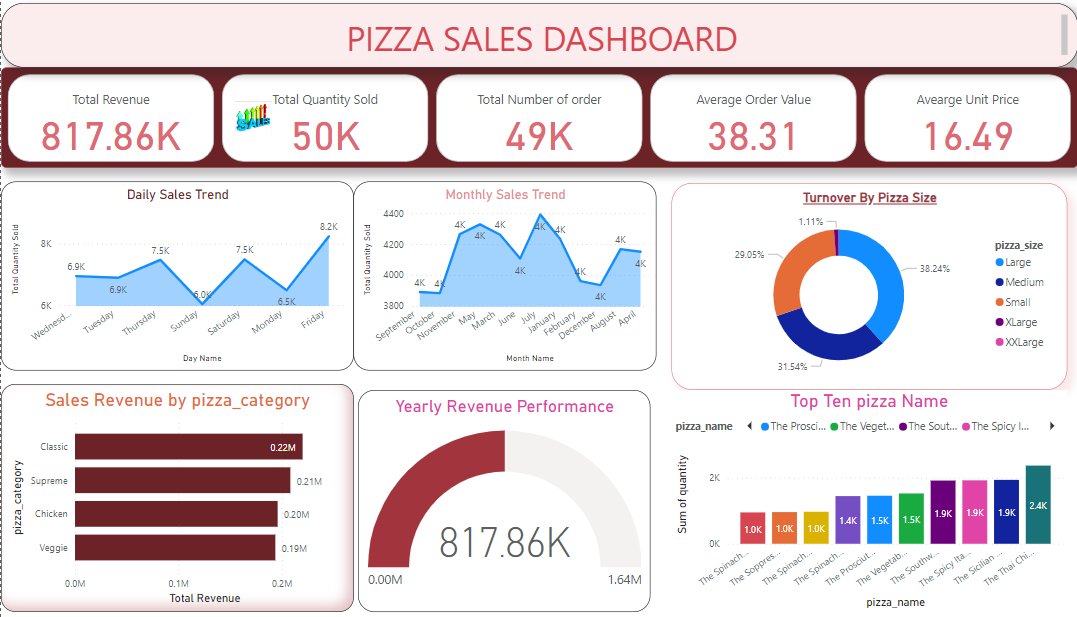

The dashboard page shown, as its layout file describes it:
{"tool":"powerbi","page":{"name":"Pizza Sales ","canvas":[1280,863],"ordinal":0},"visuals":[{"type":"areaChart","title":"Daily Sales Trend","fields":{"Category":["pizza_sales.Day Name"],"Y":["pizza_sales.Total Quantity Sold"]},"box":[0,291.5,447.7,240],"z":0},{"type":"donutChart","title":"Turnover By Pizza Size","fields":{"Y":["pizza_sales.Total Quantity Sold"],"Series":["pizza_sales.pizza_size"]},"box":[851.6,293.4,413.4,262.9],"z":1000},{"type":"clusteredBarChart","title":"Sales Revenue by pizza_category","fields":{"Category":["pizza_sales.pizza_category"],"Y":["pizza_sales.Total Revenue"]},"box":[0,548.7,447.7,289.6],"z":2000},{"type":"gauge","title":"Yearly Revenue Performance ","fields":{"Y":["pizza_sales.Total Revenue"]},"box":[453.4,556.3,371.5,282],"z":3000},{"type":"textbox","box":[447.4,3.8,385.1,60.4],"z":4000},{"type":"cardVisual","fields":{"Data":["pizza_sales.Total Revenue","pizza_sales.Total Quantity Sold","pizza_sales.Total Number of order","pizza_sales.Average Order Value","pizza_sales.Avearge Unit Price"]},"box":[0,146.7,1265,127.6],"z":5000},{"type":"areaChart","title":"Monthly Sales Trend","fields":{"Category":["pizza_sales.Month Name"],"Y":["pizza_sales.Total Quantity Sold"]},"box":[447.7,291.5,384.8,240],"z":6000},{"type":"textbox","box":[0,64.8,1280.2,81.9],"z":7000},{"type":"tableEx","fields":{"Values":["pizza_sales.pizza_name","Sum(pizza_sales.quantity)"]},"box":[852,556,413,282],"z":8000},{"type":"image","box":[257.2,169.6,57.2,81.9],"z":8001}]}

Visuals, with their boxes on the page's 1280x863 design canvas (x1, y1, x2, y2). These are canvas units, not pixel positions in the 1077x617 screenshot, which may show the page scaled, cropped or inside an application window:
"Daily Sales Trend" areaChart: (0, 292, 448, 532)
"Turnover By Pizza Size" donutChart: (852, 293, 1265, 556)
"Sales Revenue by pizza_category" clusteredBarChart: (0, 549, 448, 838)
"Yearly Revenue Performance " gauge: (453, 556, 825, 838)
textbox: (447, 4, 832, 64)
cardVisual - pizza_sales.Total Revenue x pizza_sales.Total Quantity Sold: (0, 147, 1265, 274)
"Monthly Sales Trend" areaChart: (448, 292, 832, 532)
textbox: (0, 65, 1280, 147)
tableEx - pizza_sales.pizza_name x Sum(pizza_sales.quantity): (852, 556, 1265, 838)
image: (257, 170, 314, 252)
